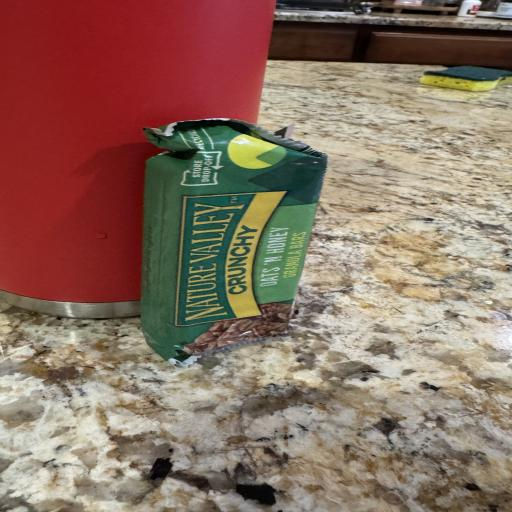granola: (142, 119, 326, 361)
